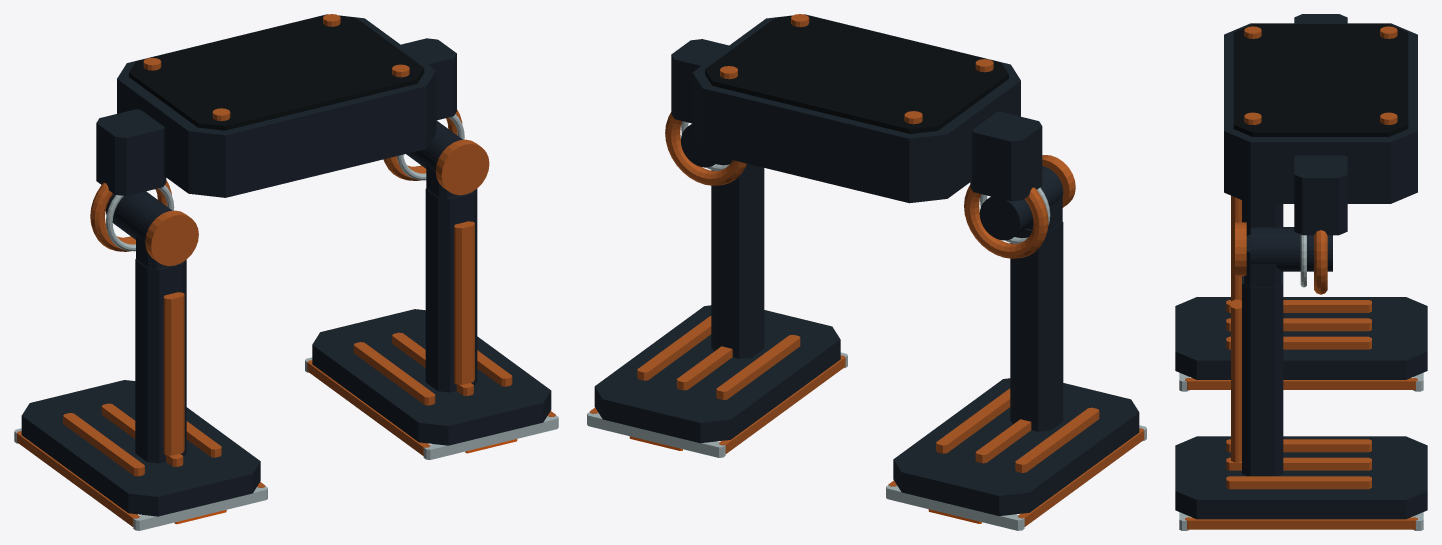
3 views of the same model, side by side, from view 1: azimuth 30°, elevation 25°; view 2: azimuth 150°, elevation 25°; view 3: azimuth 270°, elevation 25° (orthographic). The views are drawn at different scales.
Parts seen in each view (by area): view 1: main_housing, mount_gasket, panel_chassis_L, panel_chassis_R, arm_spar_R, arm_spar_L, hinge_bracket_L, arm_spine_L, arm_spine_R, axle_cap_L, axle_cap_R, hinge_bracket_R (+14 smaller); view 2: main_housing, mount_gasket, panel_chassis_R, panel_chassis_L, arm_spar_L, arm_spar_R, hinge_bracket_L, hinge_ring_L, axle_L, hinge_bracket_R, hinge_ring_R, panel_rail_bottom_L (+11 smaller); view 3: mount_gasket, panel_chassis_R, panel_chassis_L, main_housing, arm_spar_R, hinge_bracket_R, panel_rail_right_R, axle_R, rear_heat_sink_R_2, panel_rail_right_L, arm_spine_R, rear_heat_sink_R_1 (+11 smaller).
Part boxes in pixels (x1,y1,x2,y2): main_housing: [117, 14, 436, 197]; mount_gasket: [129, 15, 424, 130]; panel_chassis_L: [21, 380, 260, 516]; panel_chassis_R: [312, 309, 551, 445]; arm_spar_R: [425, 188, 477, 392]; arm_spar_L: [135, 259, 186, 463]; hinge_bracket_L: [96, 109, 166, 195]; arm_spine_L: [163, 292, 184, 455]; arm_spine_R: [454, 221, 474, 384]; axle_cap_L: [145, 210, 198, 265]; axle_cap_R: [435, 139, 489, 195]; hinge_bracket_R: [401, 38, 456, 120]; main_housing: [692, 14, 1020, 203]; mount_gasket: [705, 15, 1008, 133]; panel_chassis_R: [594, 305, 840, 443]; panel_chassis_L: [893, 378, 1139, 516]; arm_spar_L: [1010, 221, 1063, 431]; arm_spar_R: [711, 158, 764, 358]; hinge_bracket_L: [970, 112, 1042, 201]; hinge_ring_L: [964, 185, 1048, 258]; axle_L: [979, 166, 1063, 240]; hinge_bracket_R: [671, 39, 728, 123]; hinge_ring_R: [665, 112, 746, 185]; panel_rail_bottom_L: [886, 485, 1024, 530]; mount_gasket: [1233, 24, 1408, 136]; panel_chassis_R: [1175, 436, 1427, 519]; panel_chassis_L: [1175, 297, 1427, 379]; main_housing: [1224, 23, 1417, 203]; arm_spar_R: [1242, 271, 1283, 476]; hinge_bracket_R: [1294, 155, 1347, 235]; panel_rail_right_R: [1185, 517, 1417, 529]; axle_R: [1250, 227, 1332, 271]; rear_heat_sink_R_2: [1226, 476, 1371, 489]; panel_rail_right_L: [1185, 378, 1417, 389]; arm_spine_R: [1231, 299, 1241, 462]; rear_heat_sink_R_1: [1226, 457, 1371, 470].
Bounding box in the file's own units: 0.991 × 0.834 × 0.52.
